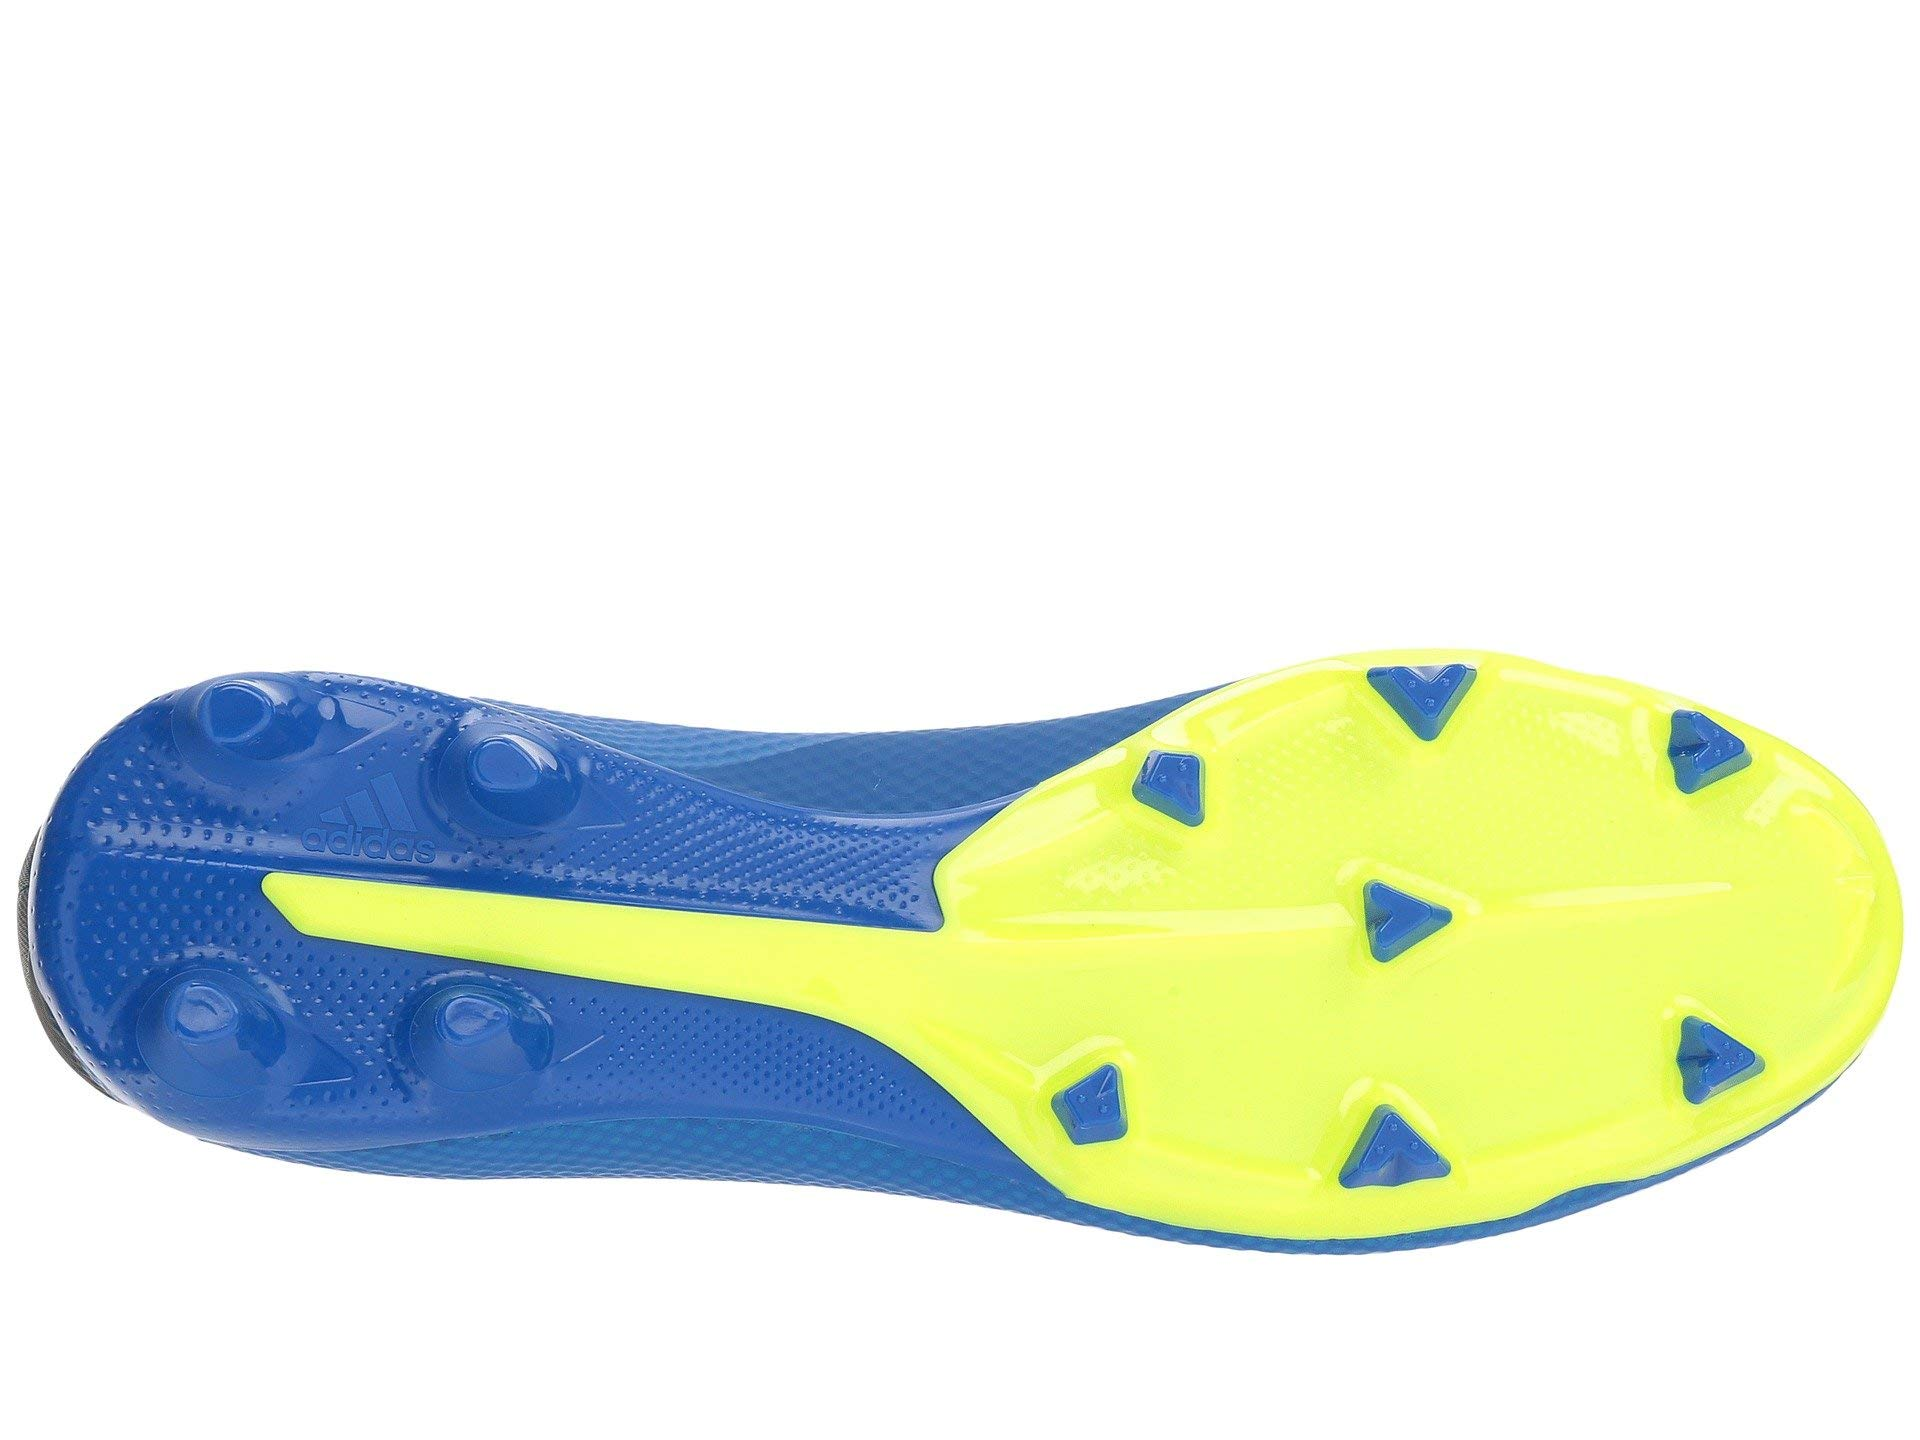triangle: (1327, 830, 1488, 1018)
